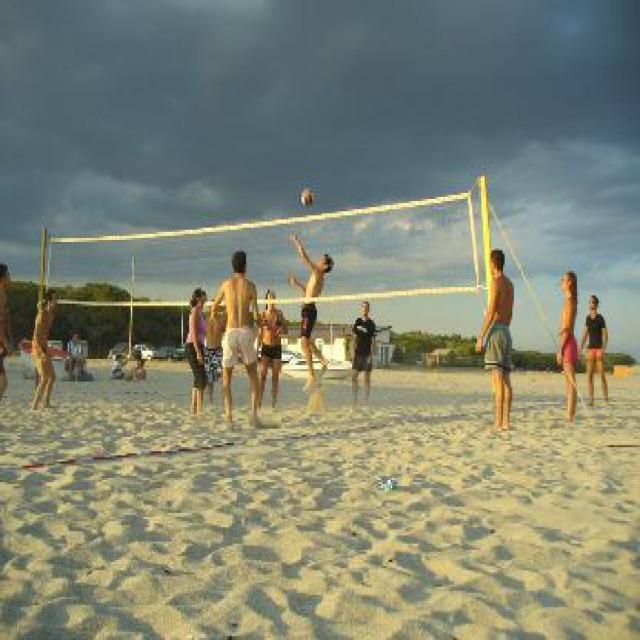volleyball: (302, 188, 316, 208)
